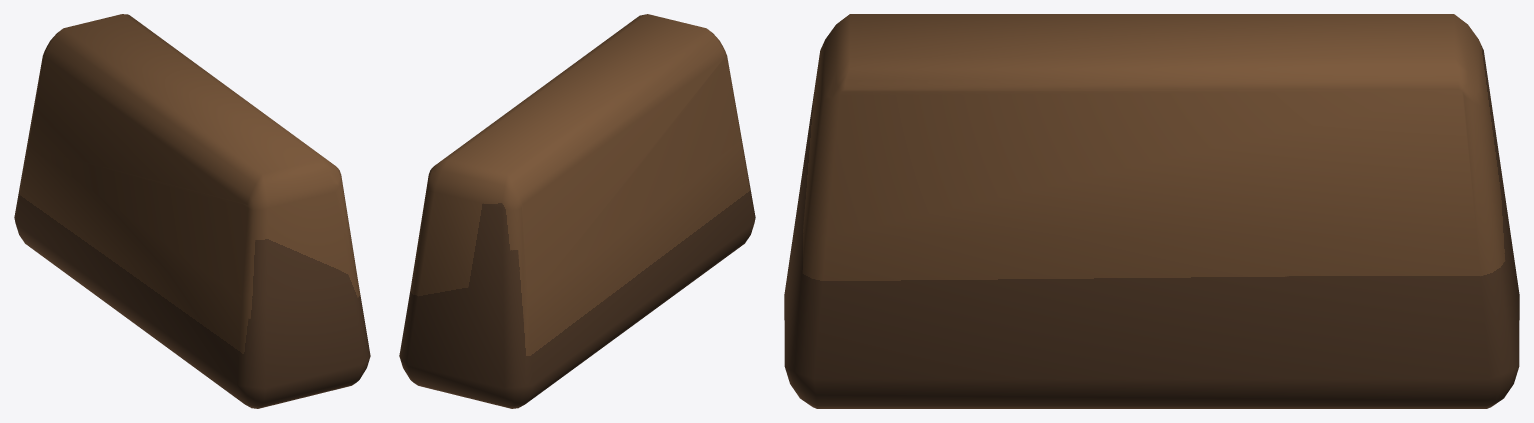
File: Long_Dirt.fbx
The picture shows the model from 3 angles, left to right: view 1: azimuth 30°, elevation 25°; view 2: azimuth 150°, elevation 25°; view 3: azimuth 270°, elevation 25°; orthographic projection. The views are drawn at different scales.
Visible parts, largest first — view 1: Cube.030; view 2: Cube.030; view 3: Cube.030.
Boxes of the visible parts, box(x1,y1,x2,y2) form: Cube.030: box(14, 14, 370, 408); Cube.030: box(399, 14, 755, 408); Cube.030: box(784, 14, 1519, 408).
Size of the model in its own units: 94.22 by 151 by 299.
